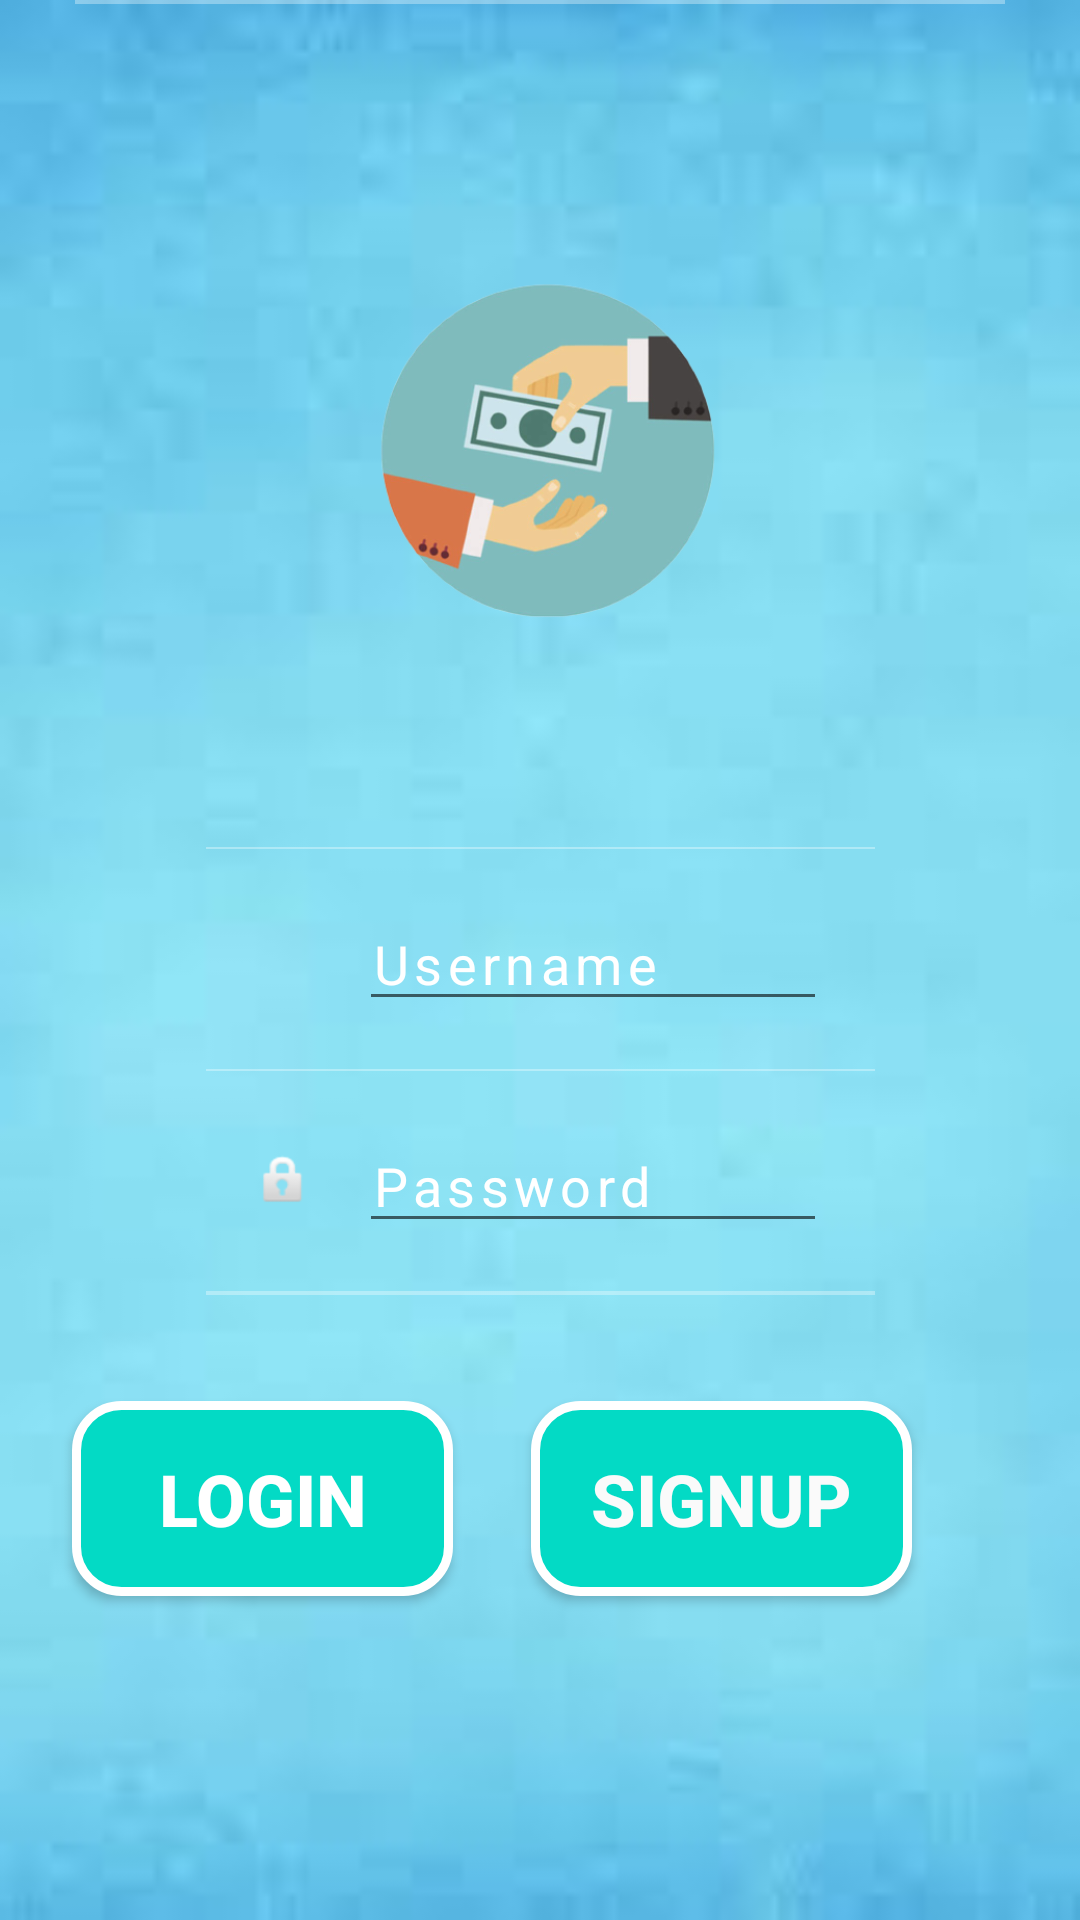

Icons on this 1080w x 1920h Android screen, each with the point to tap as [x,y]:
lock idle: [282,1179]
